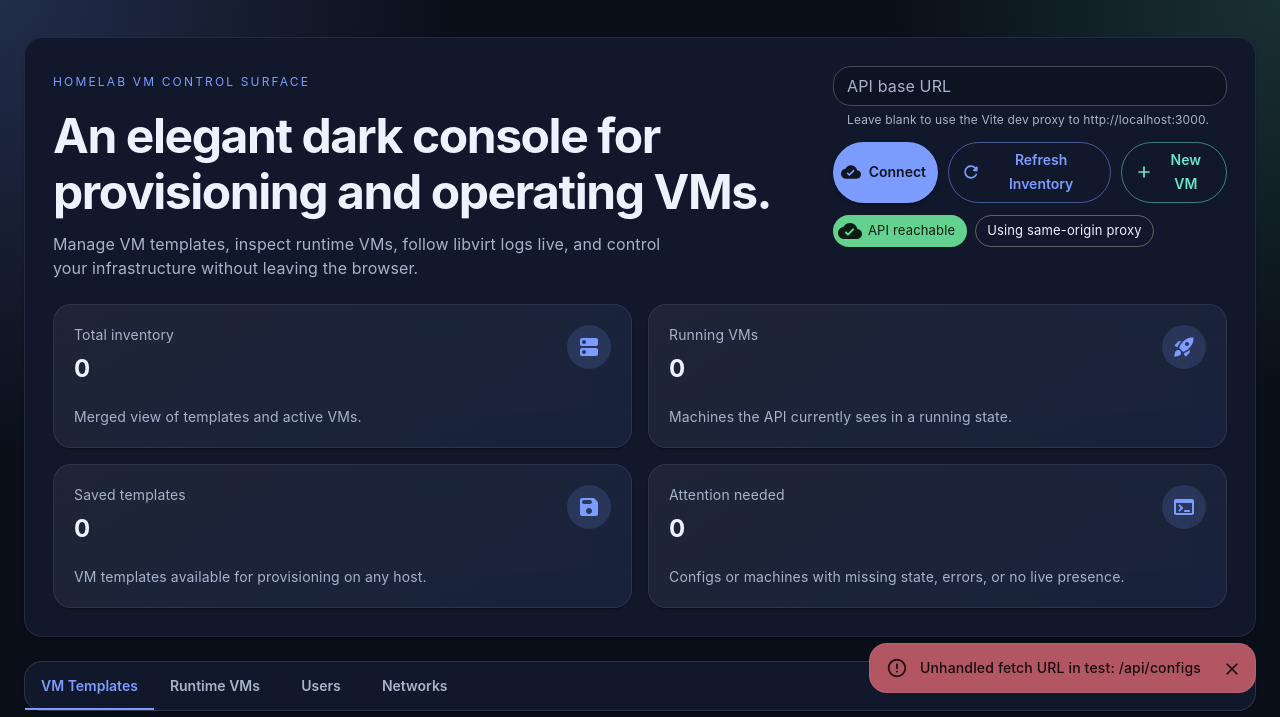
it: opens the full clone dialog with a suggested unique name and cleared conflict-prone fields
This screenshot has width=1280, height=717.
# Navigate to VMs tab first
Click the tab "Runtime VMs" at x=215, y=686, box [154, 662, 276, 710]
(page scrolled)
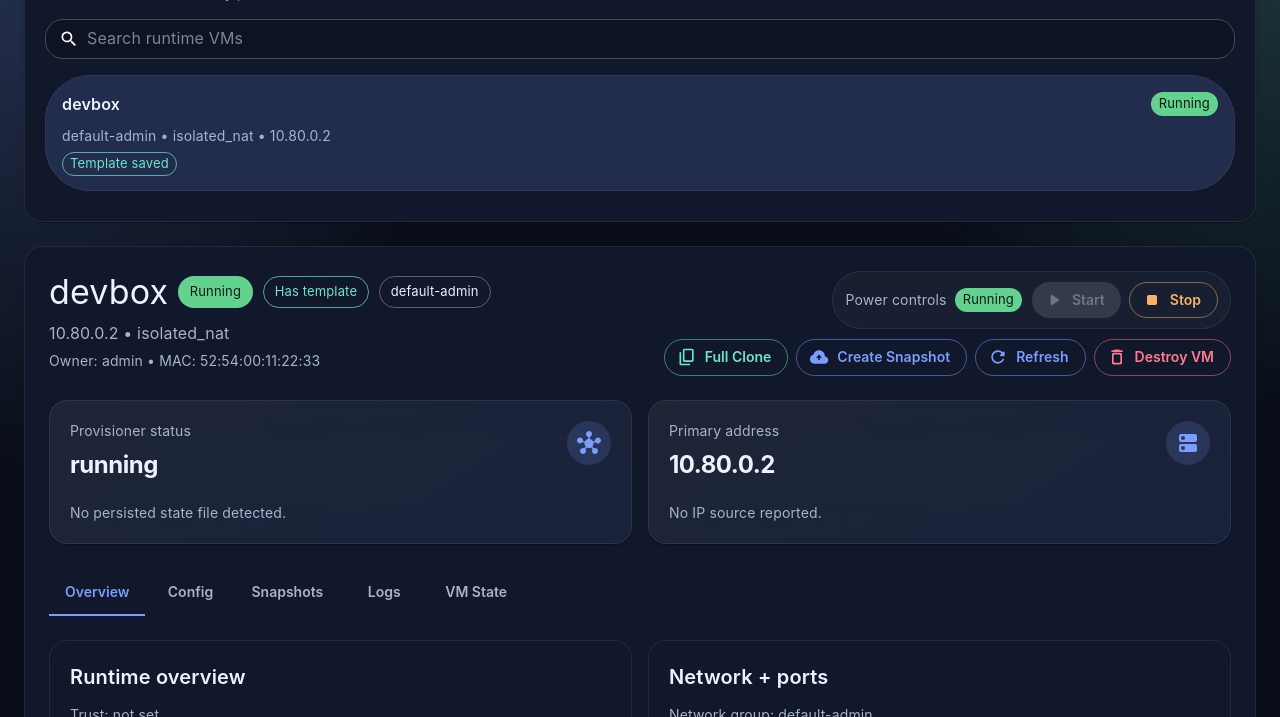
Result: the button "Full Clone" is enabled
Click the button "Full Clone" at x=726, y=357, box [664, 339, 788, 376]
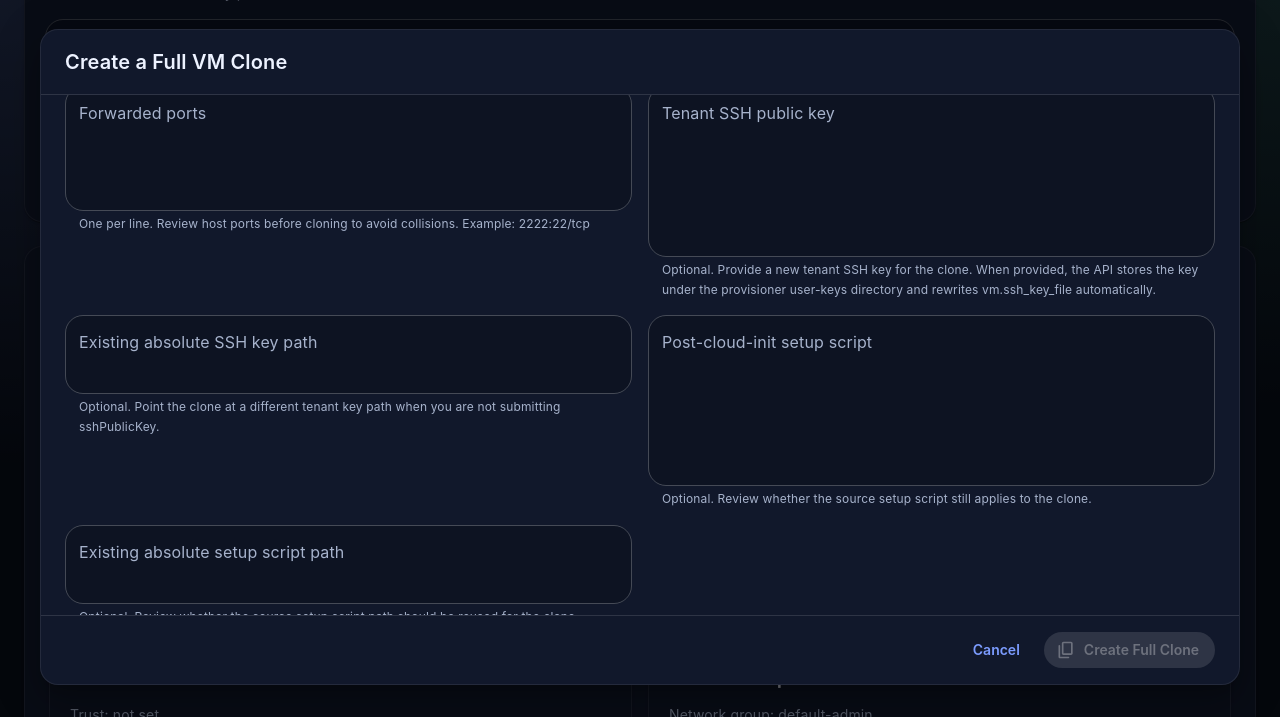
Result: the dialog "Create a Full VM Clone" is shown
Result: the text box labelled "Forwarded ports" is empty at [79, 102, 618, 194]
Result: the text box labelled "Existing absolute SSH key path" is empty at [79, 332, 618, 378]
